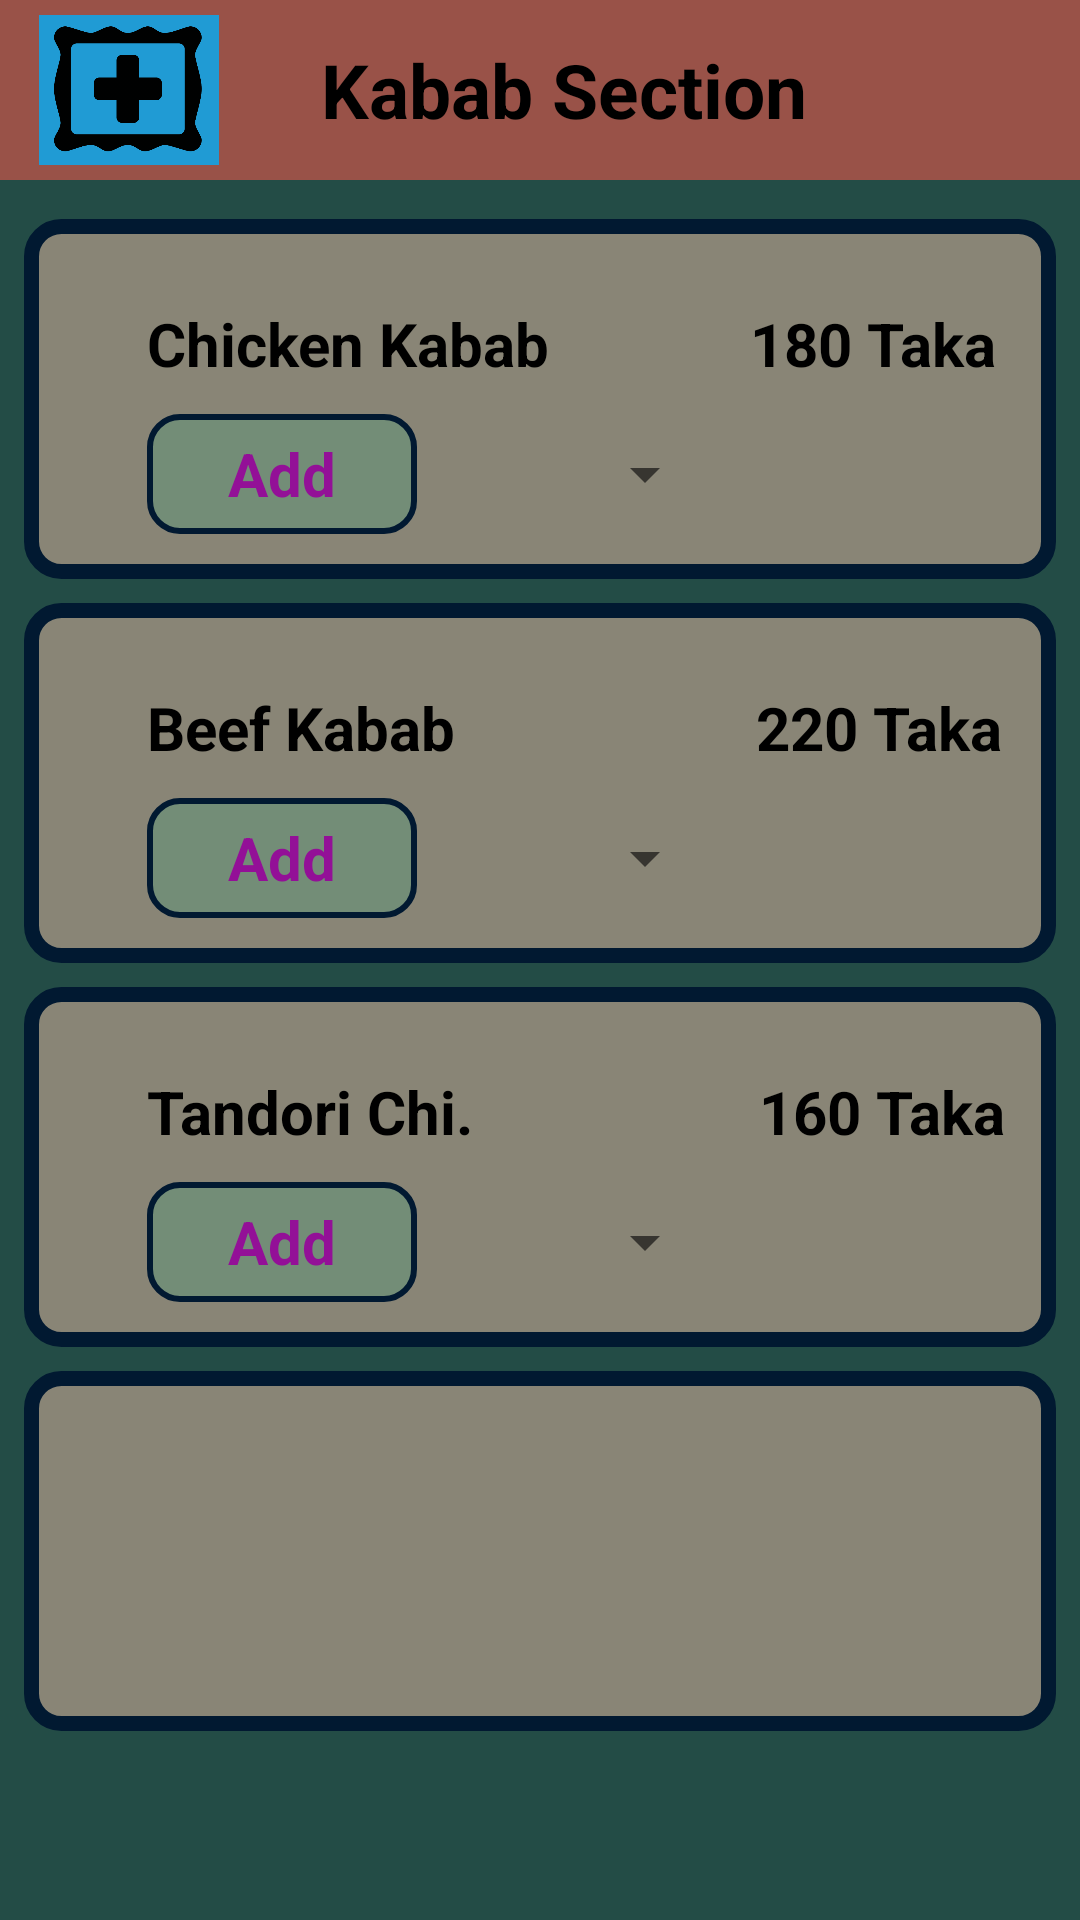

Named icons in this screenshot (1080*1920) and their centers, (x,y):
add: (129,90)
